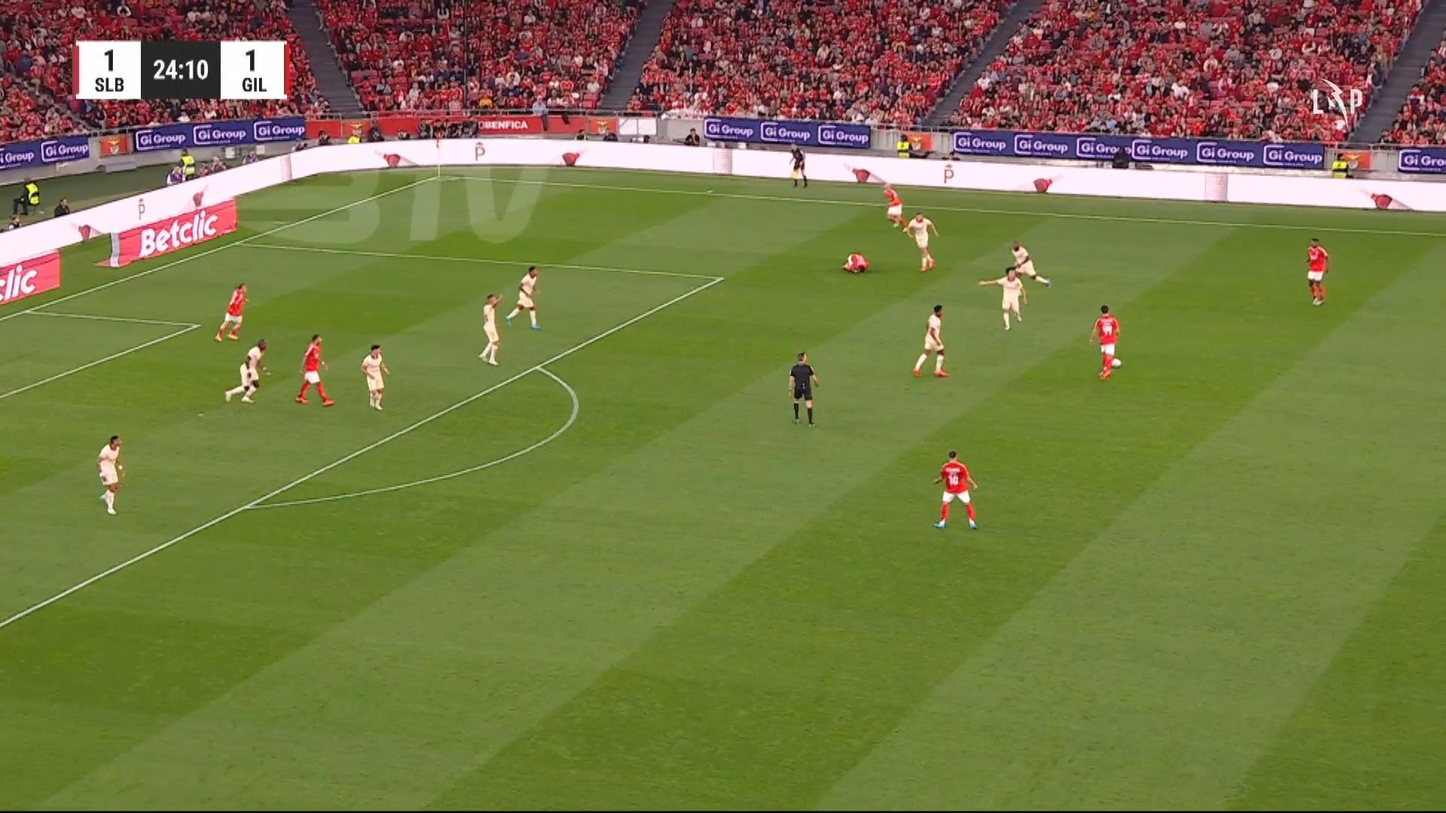ball: (1110, 358, 1121, 367)
player: (932, 449, 979, 530), (978, 266, 1027, 330), (294, 333, 335, 406), (224, 338, 270, 403), (912, 304, 950, 377), (1088, 304, 1121, 379), (504, 264, 541, 330), (96, 434, 125, 515), (902, 212, 939, 272), (213, 282, 249, 342), (1008, 239, 1051, 288), (360, 343, 389, 411), (477, 292, 502, 366), (1304, 237, 1329, 306), (882, 181, 905, 227), (844, 252, 870, 275)
referee: (787, 351, 819, 427), (788, 143, 808, 187)
